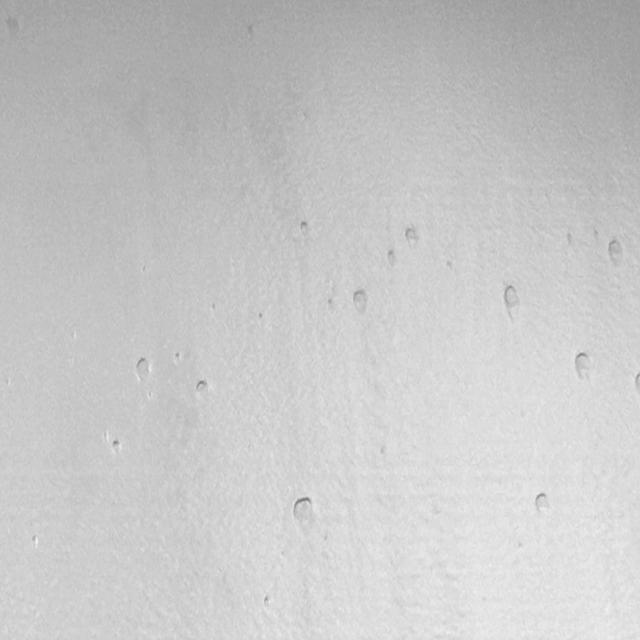pin holes: (290, 493, 318, 531), (603, 236, 630, 272), (499, 280, 524, 318), (571, 351, 596, 385), (351, 288, 374, 316), (531, 489, 553, 517), (133, 354, 154, 382), (402, 225, 422, 248), (193, 376, 212, 399), (385, 248, 403, 270), (563, 228, 579, 251), (297, 219, 313, 238), (112, 437, 127, 457), (262, 592, 275, 611), (171, 350, 183, 366), (444, 260, 457, 274), (29, 536, 41, 551), (326, 296, 337, 312), (630, 372, 639, 391), (257, 309, 268, 323), (208, 301, 218, 316)
